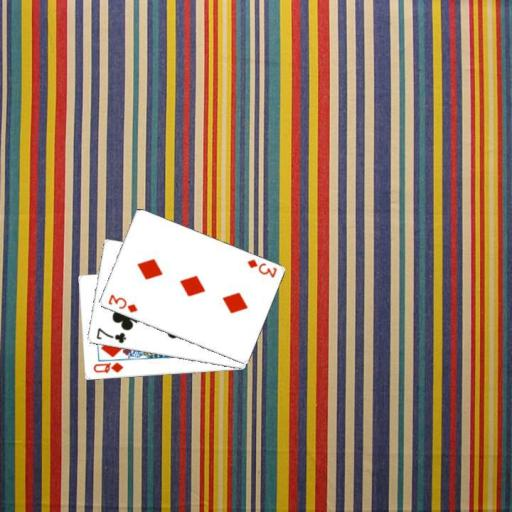3D: (105, 291, 140, 314), (244, 256, 278, 279)
7C: (93, 325, 127, 345)
QD: (91, 359, 125, 375)
